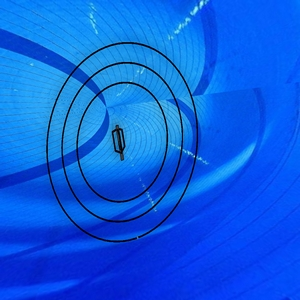circle: (44, 40, 201, 245)
submarine: (106, 124, 133, 165)
